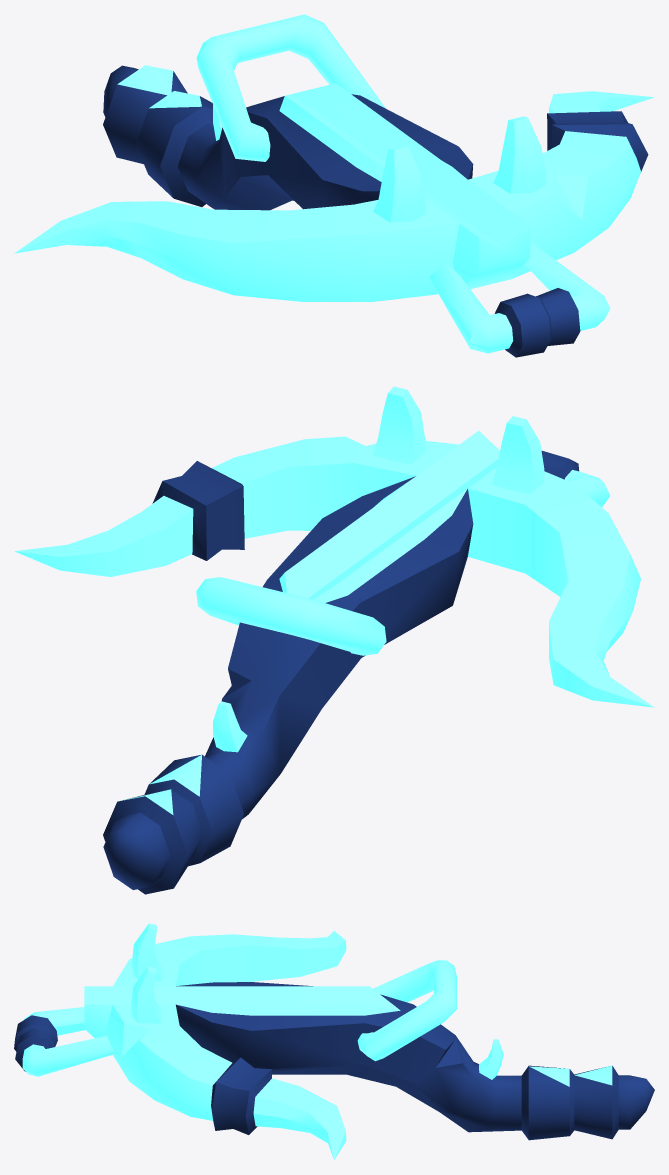
The model's file is w_bow_storm.glb.
The picture shows the model from 3 angles, top to bottom: view 1: azimuth 30°, elevation 25°; view 2: azimuth 150°, elevation 25°; view 3: azimuth 270°, elevation 25°; orthographic projection. The views are drawn at different scales.
Visible parts, largest first — view 1: Crossbow; view 2: Crossbow; view 3: Crossbow.
Part boxes in pixels (x1,y1,x2,y2): Crossbow: (14, 14, 654, 357); Crossbow: (15, 386, 654, 894); Crossbow: (14, 923, 654, 1160).
Bounding box in the file's own units: 1.22 × 0.4792 × 1.44.
